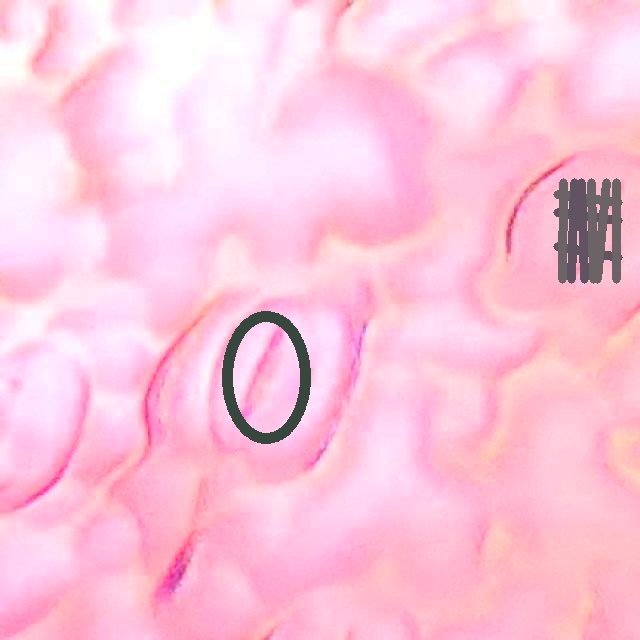open: (221, 311, 311, 444), (553, 178, 622, 283)
